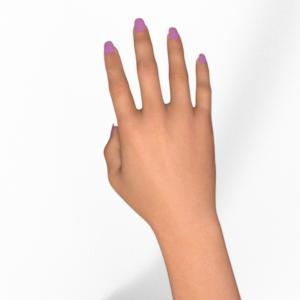paper: (104, 19, 240, 300)
